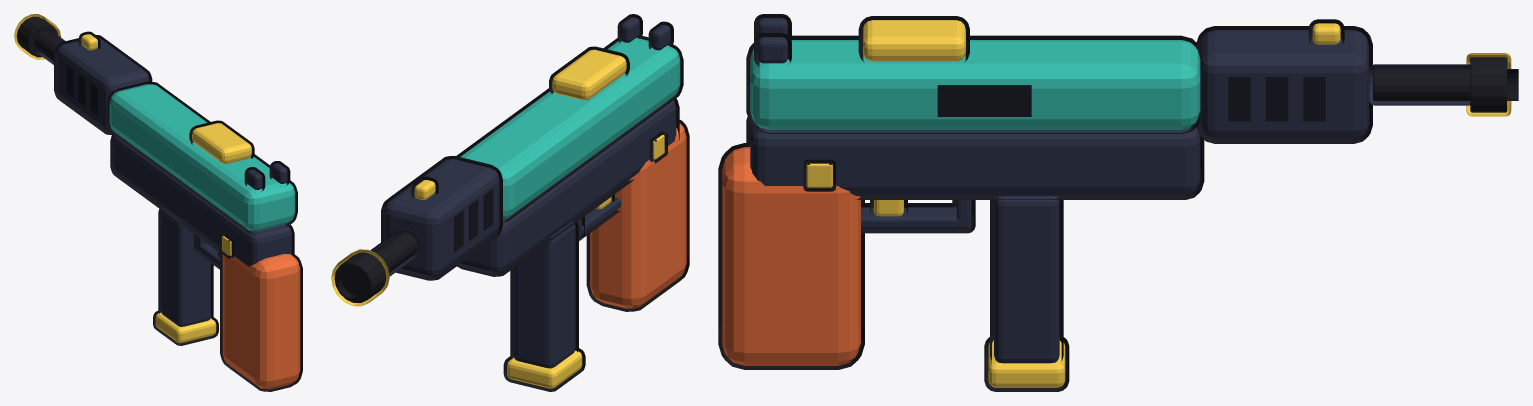
The model's file is smg.glb.
3 renders of one model, left to right at view 1: azimuth 30°, elevation 25°; view 2: azimuth 150°, elevation 25°; view 3: azimuth 270°, elevation 25°, orthographic. The views are drawn at different scales.
Parts seen in each view (by area): view 1: Receiver, Grip, Frame, Magazine, Shroud, Slide, MagBase, MuzzleRing, Barrel, RearSightL, RearSightR, GuardBottom (+5 smaller); view 2: Receiver, Grip, Frame, Shroud, Magazine, Slide, MuzzleRing, MagBase, Barrel, GuardBottom, RearSightR, RearSightL (+5 smaller); view 3: Receiver, Frame, Grip, Shroud, Magazine, Slide, Barrel, Port, MagBase, GuardBottom, MuzzleRing, RearSightR (+6 smaller).
Boxes of the visible parts, x1,y1,x2,y2 form: Receiver: [107, 81, 297, 233]; Grip: [220, 252, 302, 391]; Frame: [110, 134, 294, 266]; Magazine: [158, 207, 213, 326]; Shroud: [54, 35, 152, 134]; Slide: [189, 120, 254, 163]; MagBase: [153, 311, 218, 345]; MuzzleRing: [14, 14, 61, 59]; Barrel: [34, 31, 65, 64]; RearSightL: [244, 167, 265, 191]; RearSightR: [269, 161, 290, 185]; GuardBottom: [193, 241, 219, 269]; Receiver: [456, 35, 683, 221]; Grip: [586, 120, 689, 311]; Frame: [457, 98, 679, 276]; Shroud: [381, 156, 502, 280]; Magazine: [510, 219, 578, 368]; Slide: [549, 46, 629, 100]; MuzzleRing: [331, 249, 389, 306]; MagBase: [503, 348, 585, 391]; Barrel: [370, 229, 420, 276]; GuardBottom: [579, 197, 620, 240]; RearSightR: [617, 14, 642, 42]; RearSightL: [648, 21, 673, 50]; Receiver: [746, 35, 1200, 133]; Frame: [746, 117, 1204, 199]; Grip: [718, 143, 864, 369]; Shroud: [1196, 26, 1372, 143]; Magazine: [990, 196, 1063, 363]; Slide: [858, 16, 969, 62]; Barrel: [1369, 64, 1470, 105]; Port: [937, 85, 1031, 116]; MagBase: [984, 337, 1069, 391]; GuardBottom: [861, 203, 975, 233]; MuzzleRing: [1466, 53, 1511, 116]; RearSightR: [754, 33, 791, 66].
Bounding box in the file's own units: 0.0553 × 0.2103 × 0.4272.
